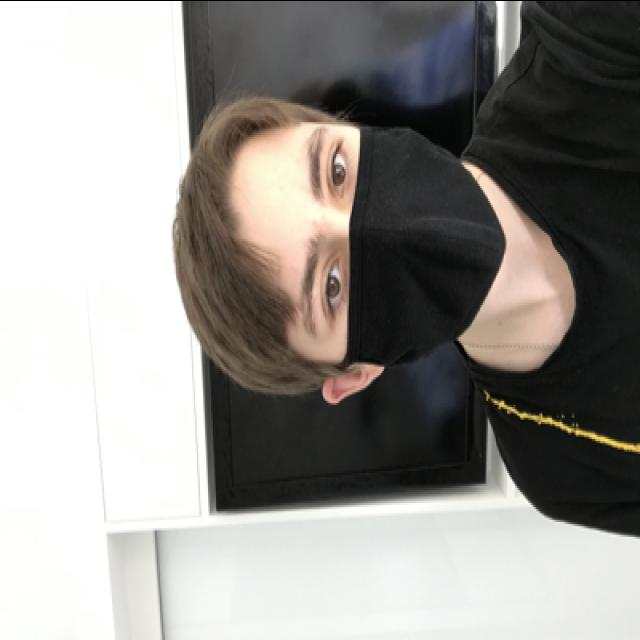mask: (266, 122, 506, 366)
